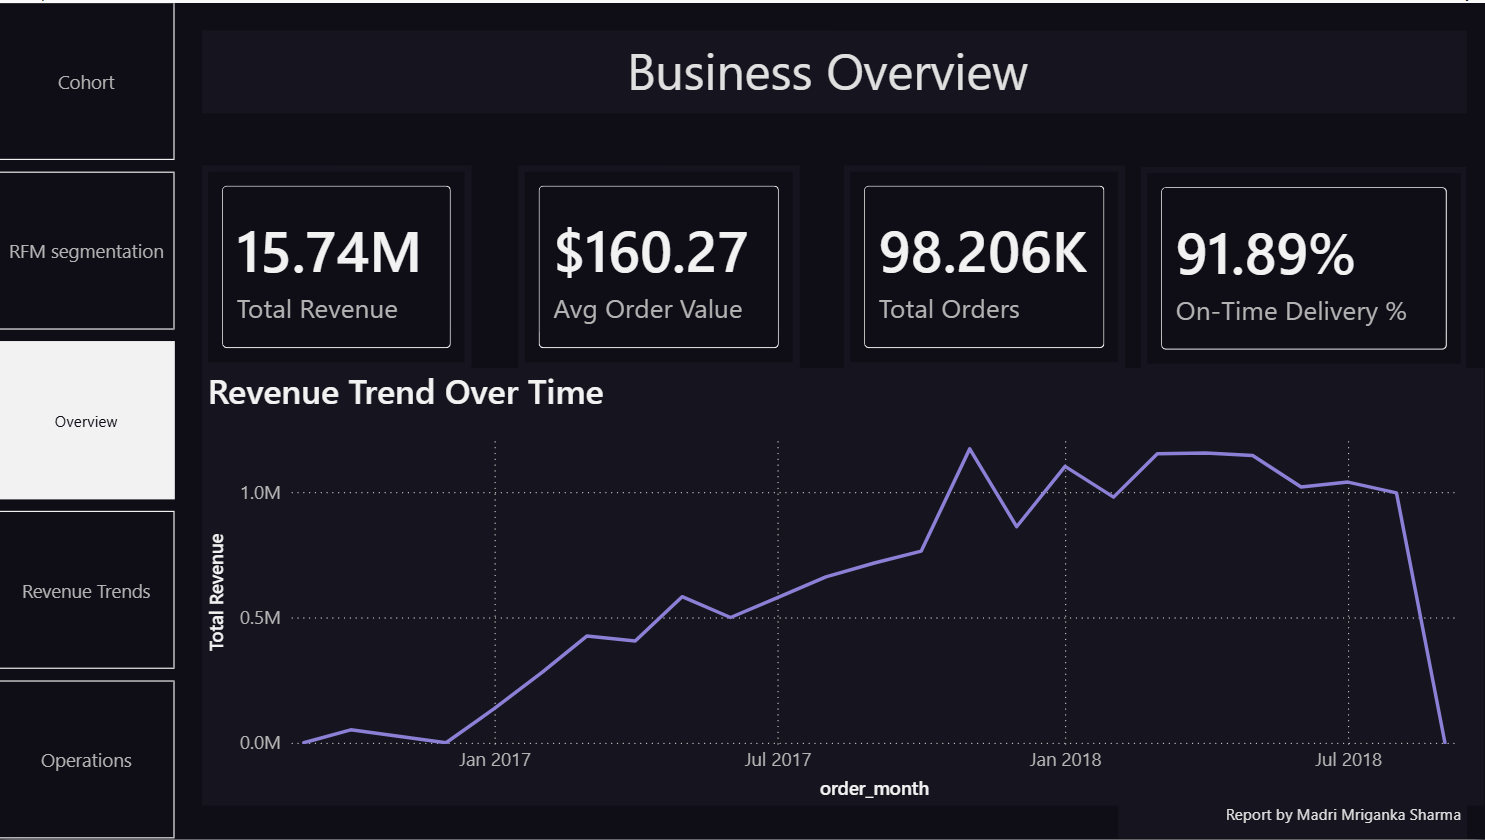

Layout of this report page (visuals, bound fields, positions):
{"tool":"powerbi","page":{"name":"Overview ","canvas":[1280,720],"ordinal":2},"visuals":[{"type":"cardVisual","fields":{"Data":["revenue_trends.Total Revenue"]},"box":[175.6,140.7,231.9,174.8],"z":0},{"type":"cardVisual","fields":{"Data":["revenue_trends.Total Orders"]},"box":[728.2,140.7,241.8,174.8],"z":1000},{"type":"cardVisual","fields":{"Data":["delivery_performance.On-Time Delivery %"]},"box":[983.9,142,280.2,174.8],"z":2000},{"type":"cardVisual","fields":{"Data":["revenue_trends.Avg Order Value"]},"box":[448,140.7,241.8,174.8],"z":3000},{"type":"lineChart","title":"Revenue Trend Over Time","fields":{"Y":["revenue_trends.Total Revenue"],"Category":["revenue_trends.order_month"]},"box":[176.1,315,1103.6,377],"z":4000},{"type":"textbox","box":[964.7,684,300.1,36],"z":4001},{"type":"pageNavigator","box":[0,0,152.5,720.4],"z":4002},{"type":"textbox","box":[175.6,24.5,1088.5,71],"z":4003}]}

Visuals, with their boxes on the page's 1280x720 design canvas (x1, y1, x2, y2). These are canvas units, not pixel positions in the 1485x840 screenshot, which may show the page scaled, cropped or inside an application window:
cardVisual - revenue_trends.Total Revenue: 176, 141, 408, 316
cardVisual - revenue_trends.Total Orders: 728, 141, 970, 316
cardVisual - delivery_performance.On-Time Delivery %: 984, 142, 1264, 317
cardVisual - revenue_trends.Avg Order Value: 448, 141, 690, 316
"Revenue Trend Over Time" lineChart: 176, 315, 1280, 692
textbox: 965, 684, 1265, 720
pageNavigator: 0, 0, 152, 720
textbox: 176, 24, 1264, 96
